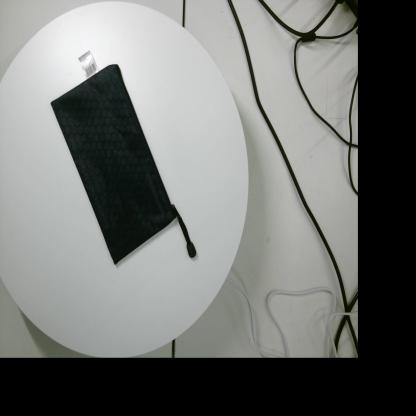Stationery: (51, 50, 196, 265)
